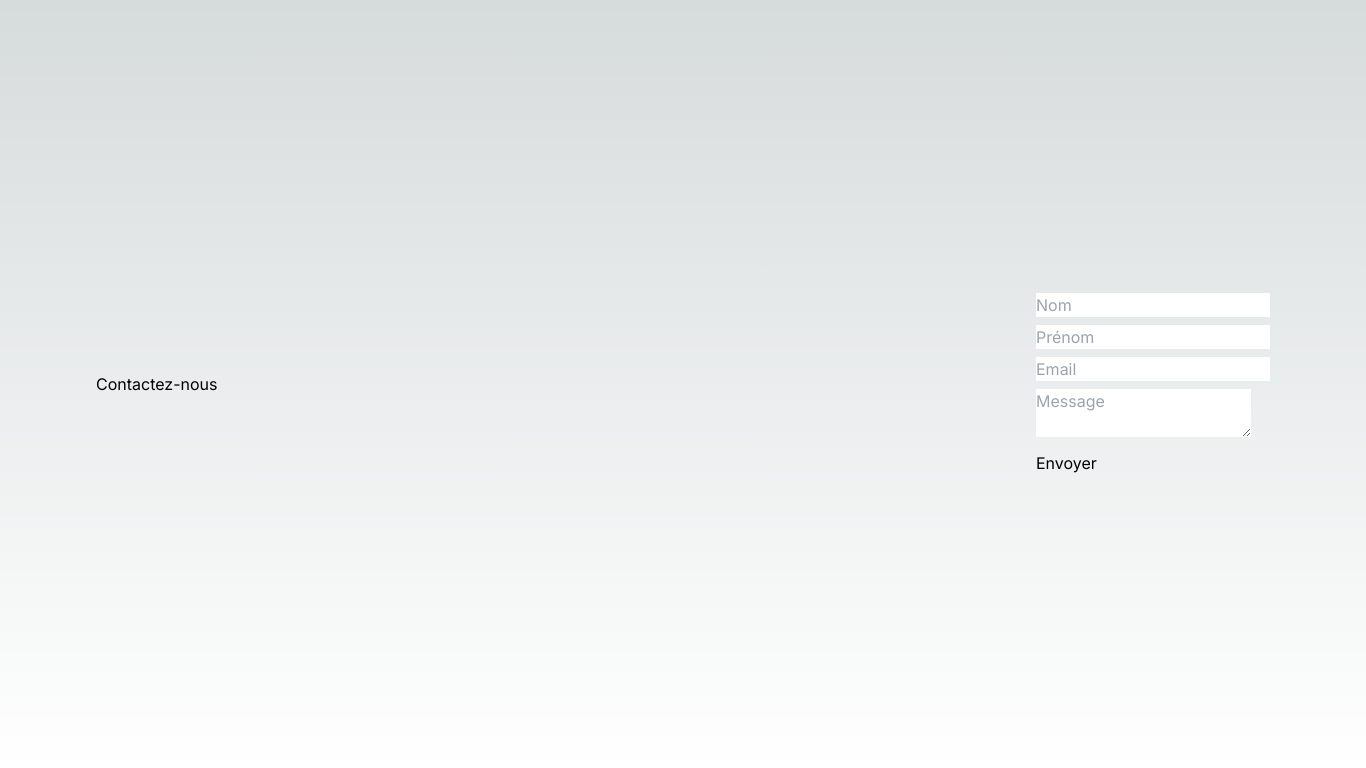
Test: Form chack › cant submit a contact request with bad email
Type "Doe" into the field named "lastName" at (1153, 305), box [1036, 293, 1270, 317]
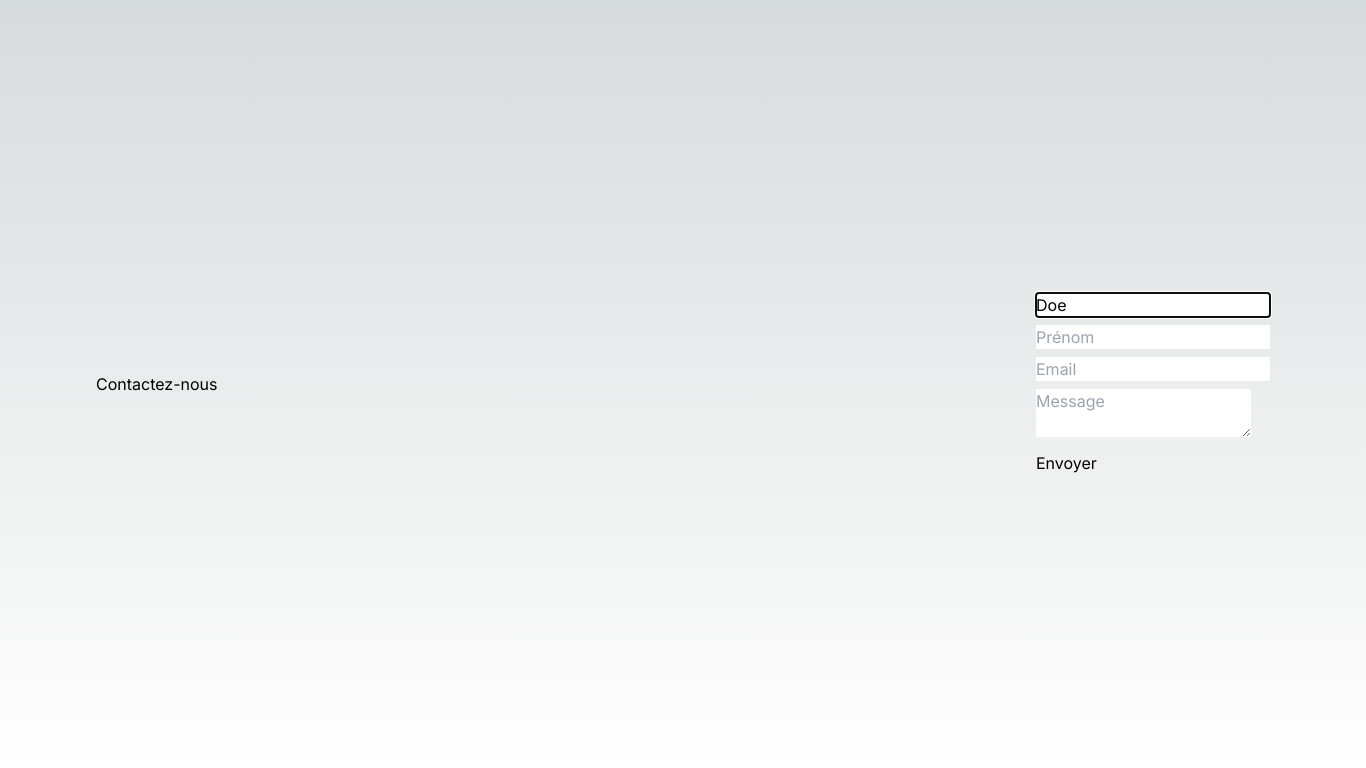
Type "John" into the field named "firstName" at (1153, 337), box [1036, 325, 1270, 349]
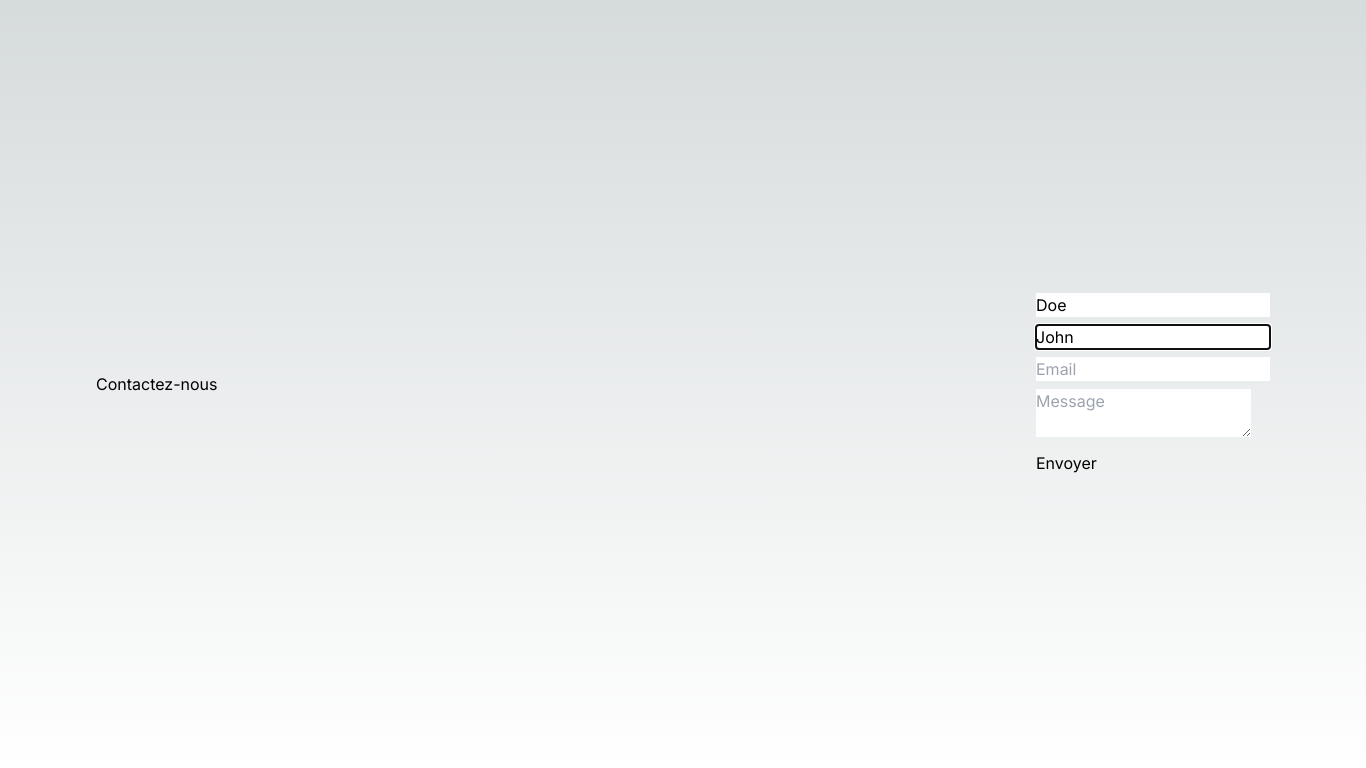
Type "john.doe@myges" into the field named "email" at (1153, 369), box [1036, 357, 1270, 381]
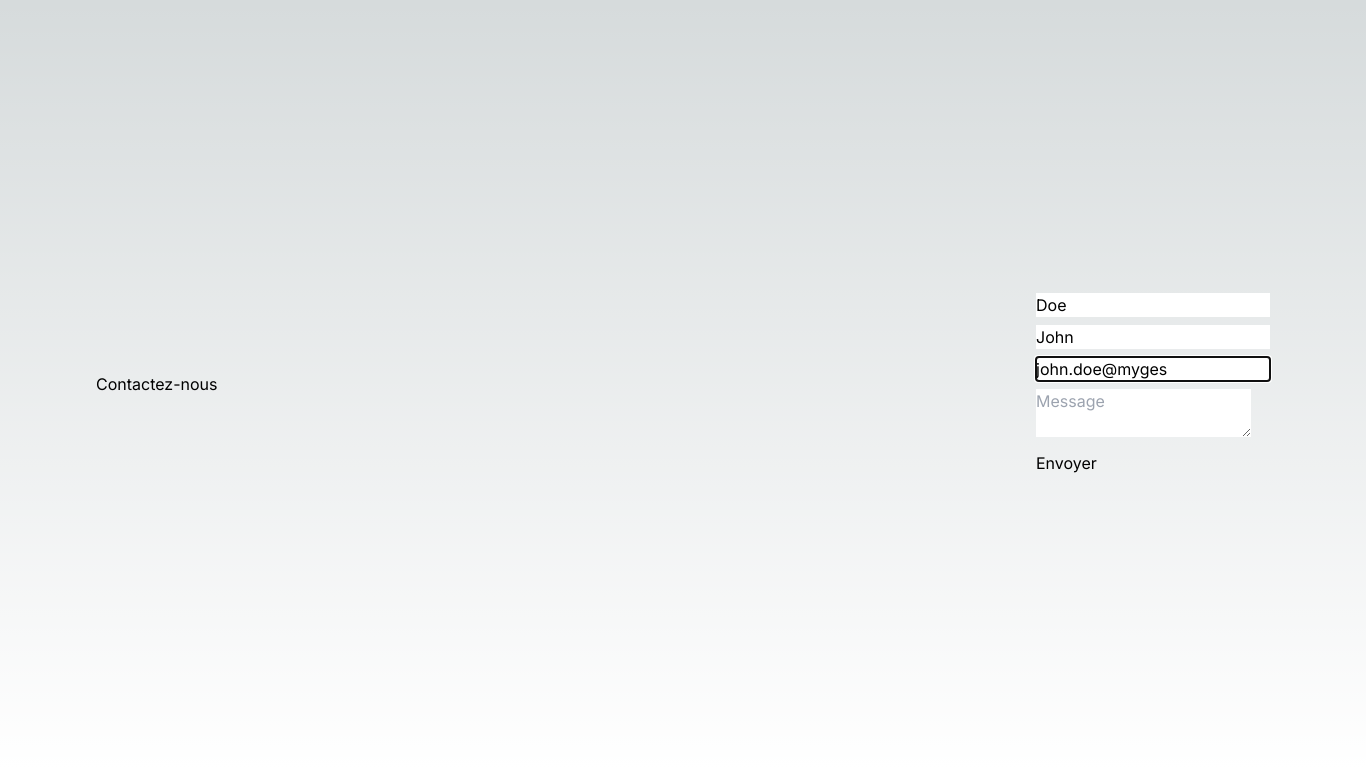
Type "Ici le message" into the text box named "message" at (1144, 413), box [1036, 389, 1251, 437]
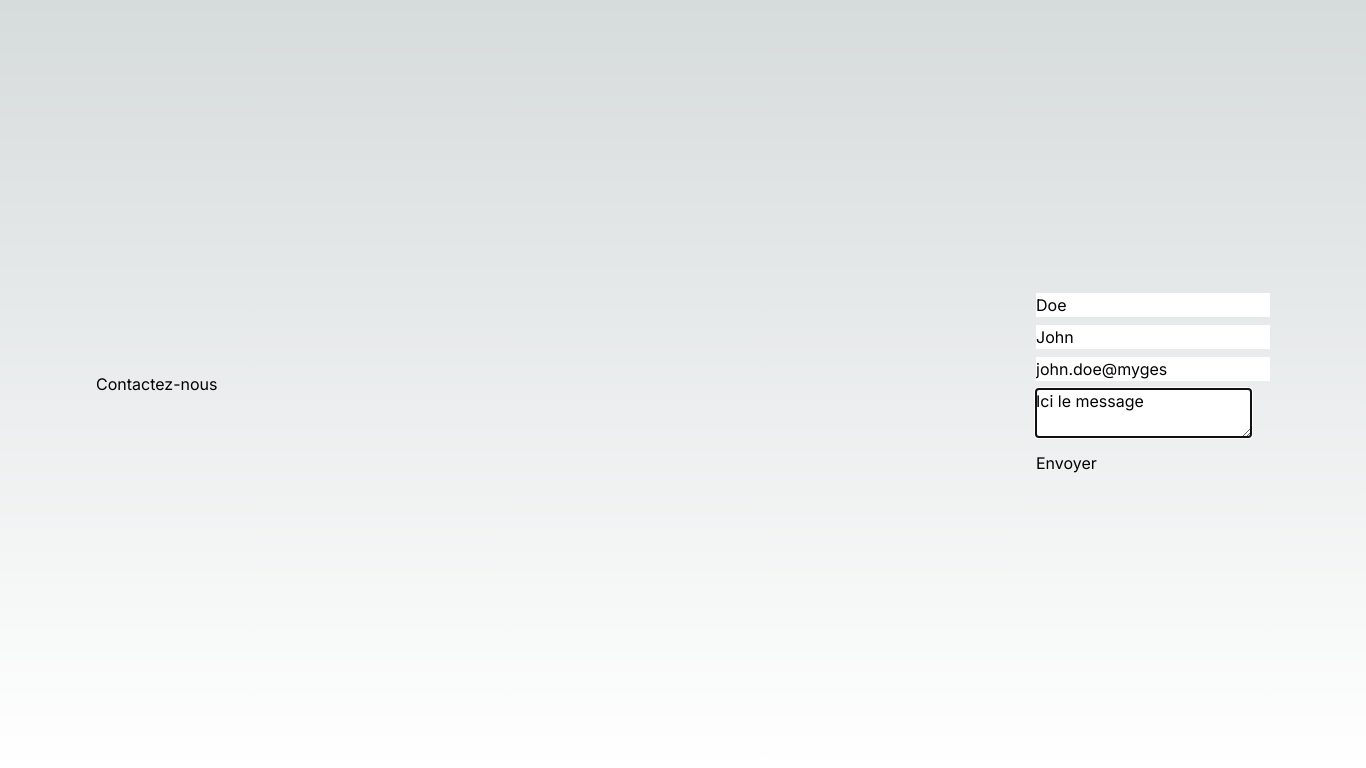
Click the submit button at (1067, 463), box [1036, 451, 1097, 475]
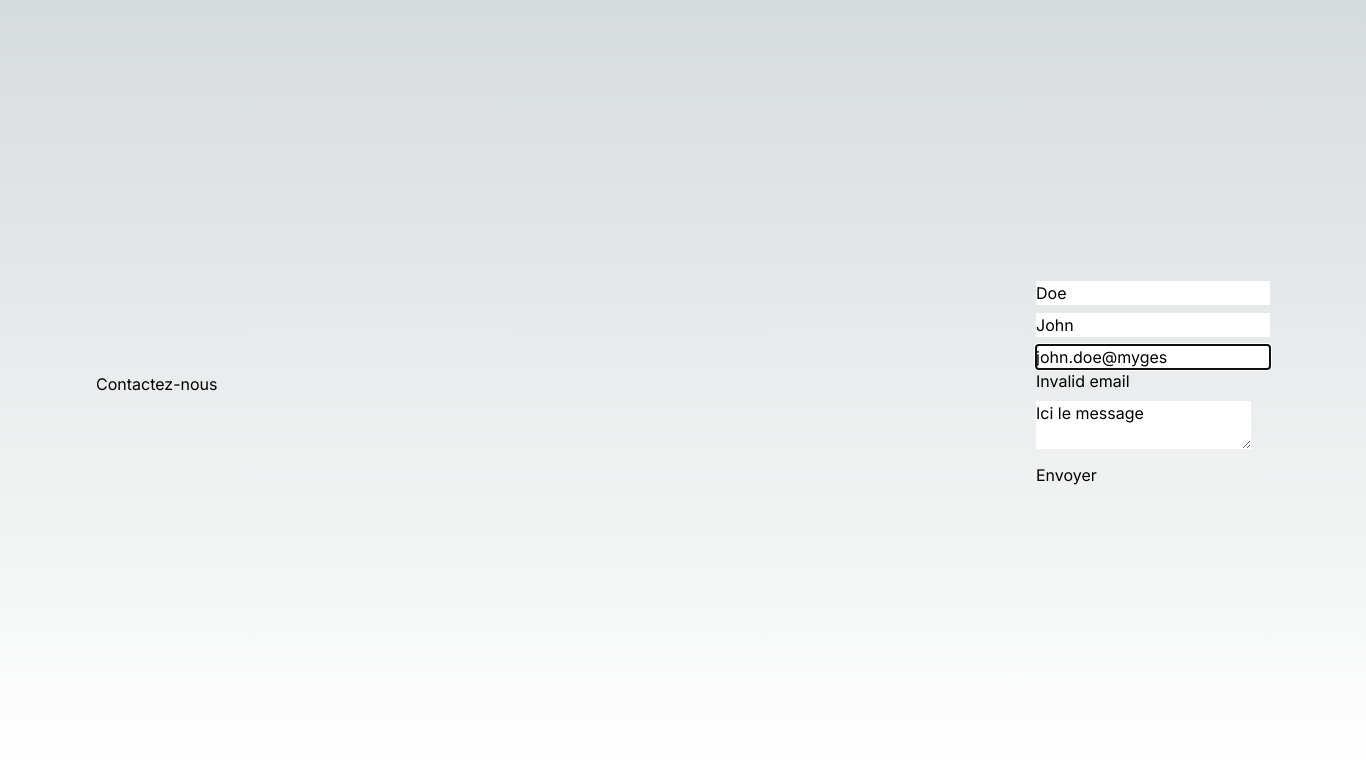
Now the text "Invalid email" is shown, box [1036, 371, 1130, 391]
